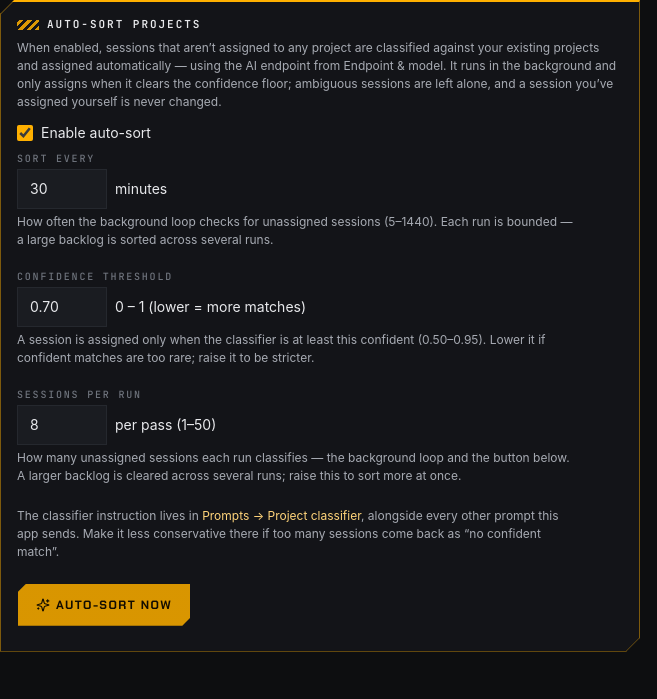
a run with no matches lists the near-misses with project names (#459)
Click the button "Auto-sort now" at (104, 605), box [17,583,191,627]
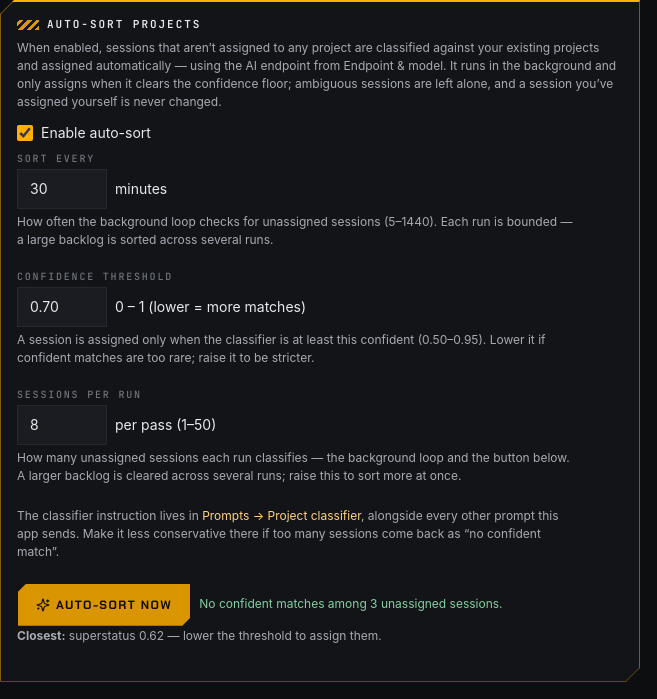
Check: the text "No confident matches among 3 unassigned sessions." is shown, box [199,596,503,613]
Check: the text "lower the threshold to assign them" shows "superstatus 0.62", box [17,628,382,643]
